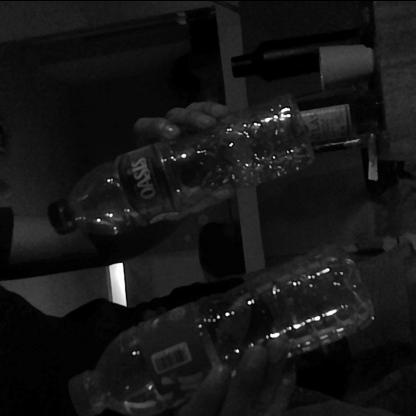plastic_bottles: (66, 242, 366, 412), (46, 96, 306, 242)
